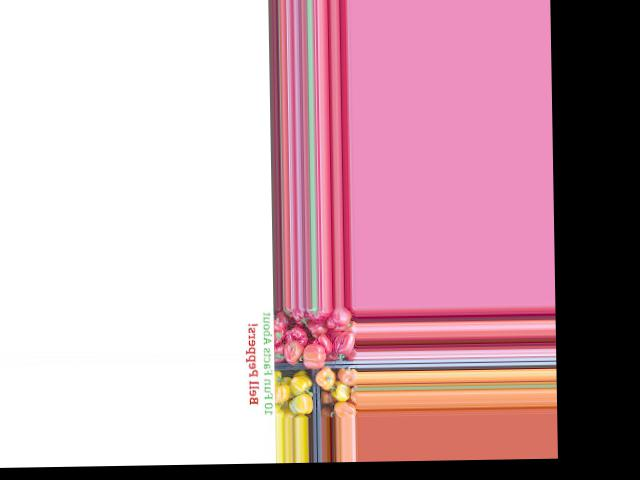bell_pepper: (270, 319, 290, 350)
